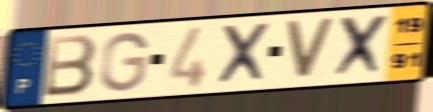4: (167, 24, 209, 91)
B: (41, 32, 99, 100)
G: (98, 30, 151, 93)
V: (282, 17, 338, 82)
X: (330, 11, 392, 81), (215, 20, 273, 87)
